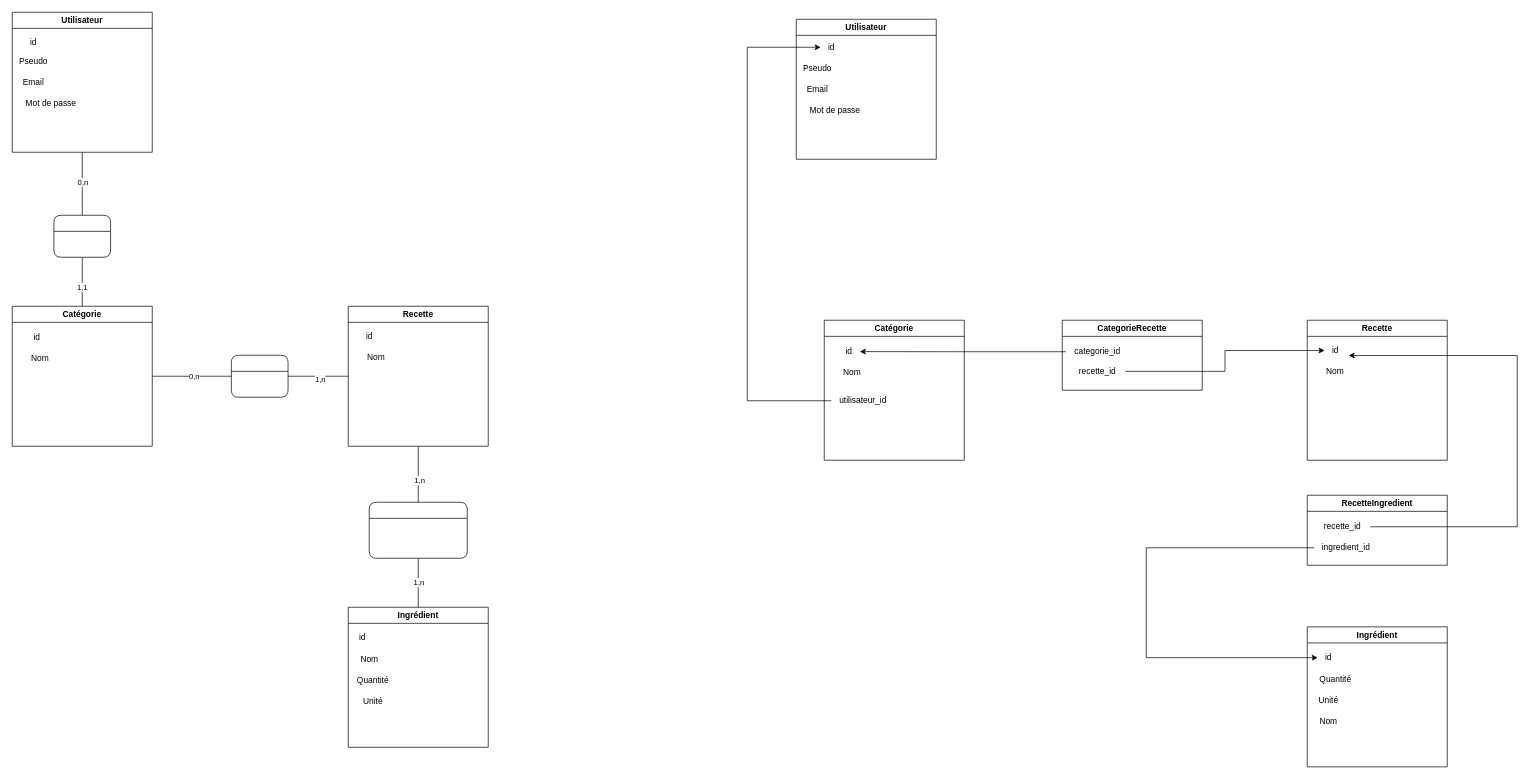
Some shapes in this 1535 by 779 pixel diagram are drawn without their labels. Here are the shapes that lost their labels. From the top down, the centre of each, then its label:
(82,236): crée
(259,376): contient
(418,530): est composé de
